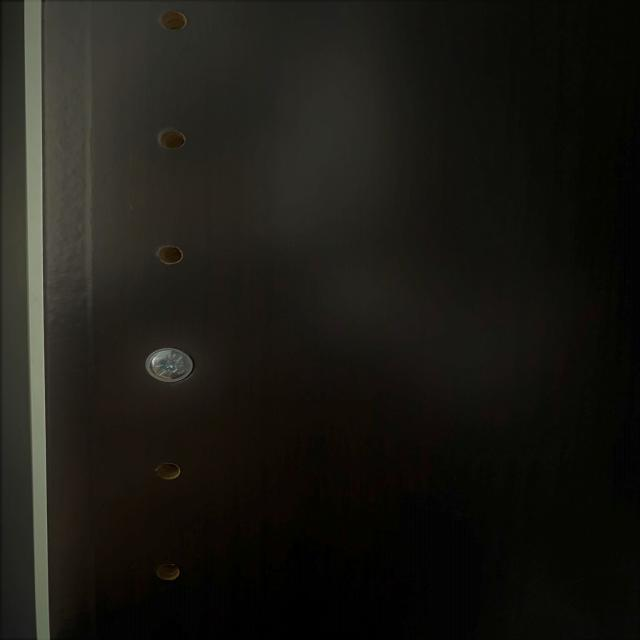PhillipsScrewHead: (143, 348, 195, 383)
